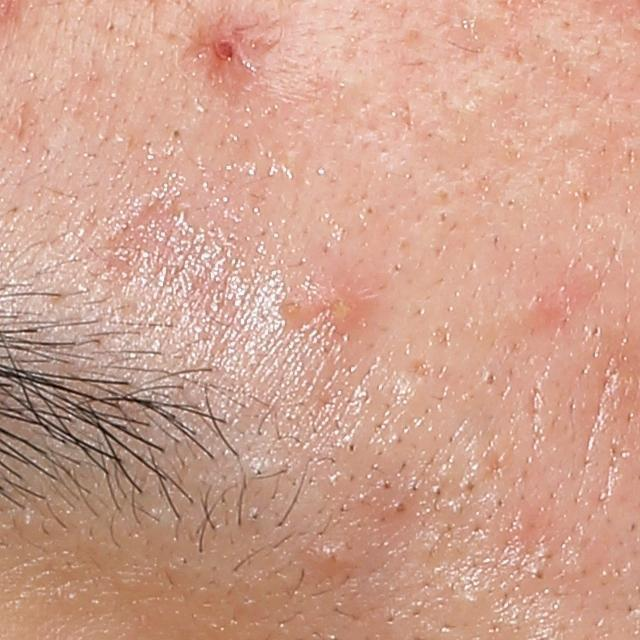comedo: (18, 513, 38, 531), (391, 500, 407, 517)
